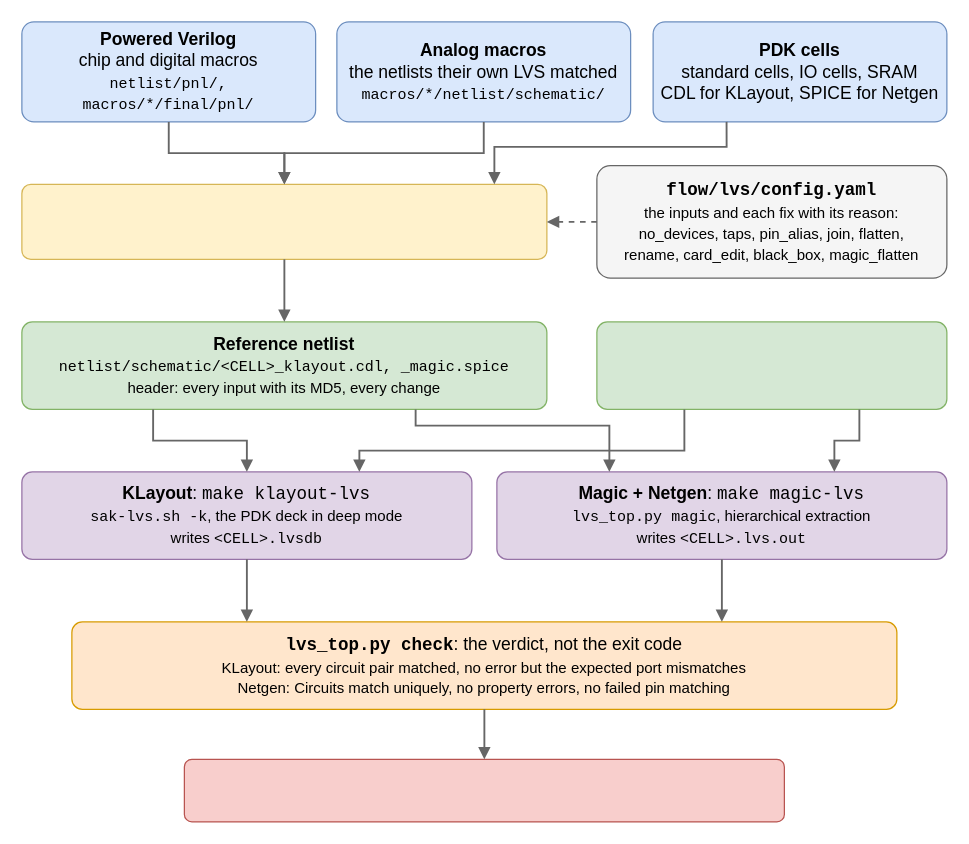
This 969x844 diagram has some shape labels left out. The centre of each missing label's shape, as x and y in pixels:
"Layout layout/<CELL>.gds.gz chip_top or chip_top_logo_fill" belongs at pixel 771 365.
"scripts/lvs_top.py netlist make klayout-lvs-netlist, make magic-lvs-netlist" belongs at pixel 284 221.
"verification/lvs/<CELL>.<engine>.lvs/<CELL>.lvs.summary PASS or FAIL" belongs at pixel 483 790.
